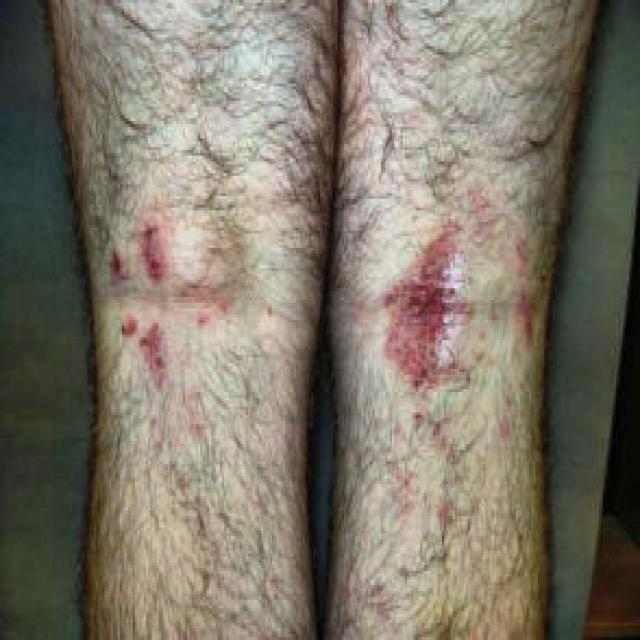Atopic-Dermatitis: (102, 205, 205, 395), (389, 228, 466, 387)
